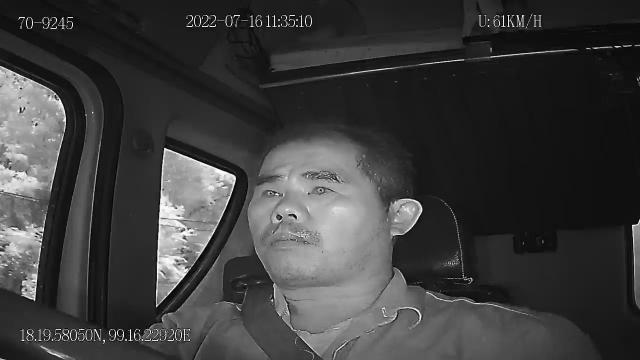SafeDriving: (300, 176, 342, 201), (255, 182, 289, 204)
Seatbelt: (238, 283, 328, 360)
